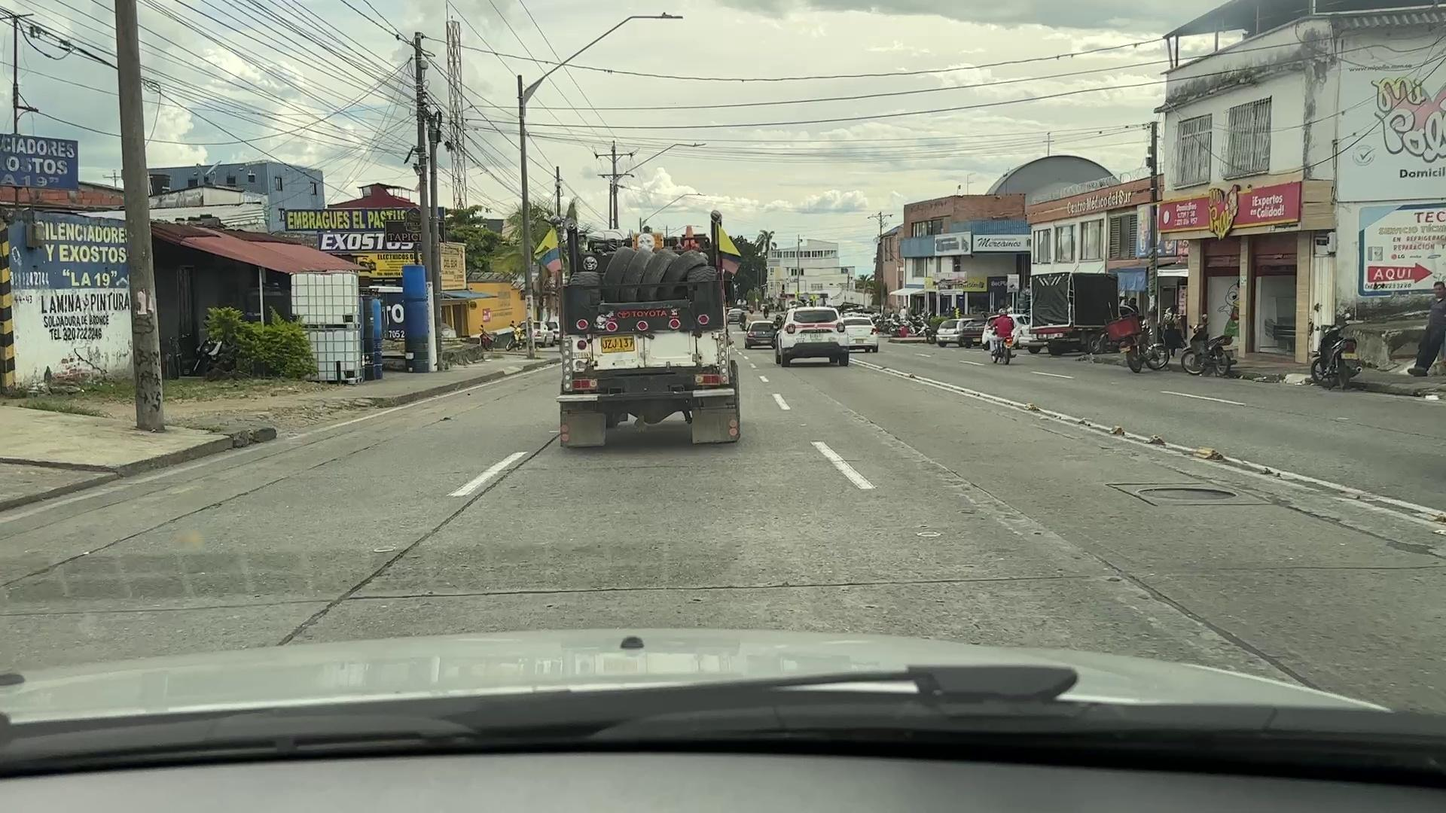bache: (1387, 540, 1432, 556)
grieta: (1263, 491, 1384, 539)
registro: (1139, 488, 1235, 499)
